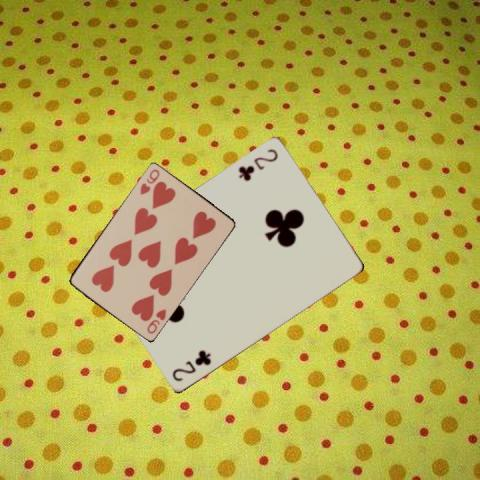2c: (235, 145, 280, 183), (168, 346, 212, 383)
9h: (137, 165, 161, 196), (144, 305, 167, 335)
